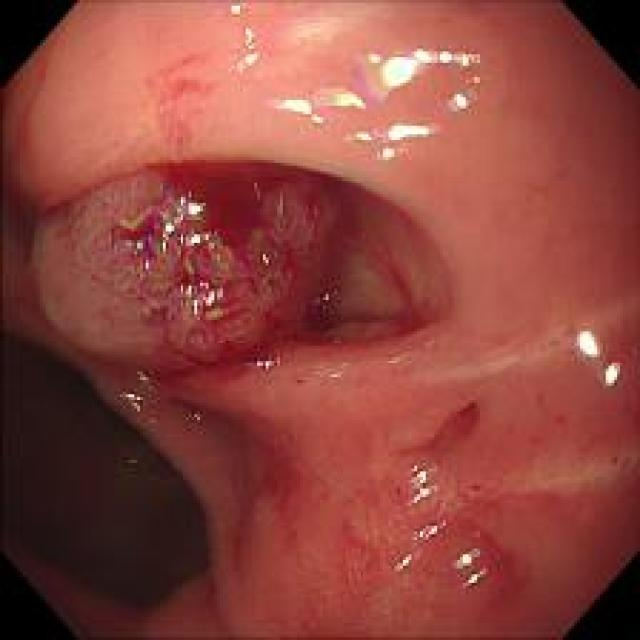blood: (132, 150, 332, 345)
color misalignment: (269, 46, 485, 165), (134, 194, 238, 324), (386, 461, 486, 588), (218, 6, 260, 74), (579, 329, 621, 392), (246, 246, 285, 271), (122, 390, 149, 418), (249, 356, 282, 369), (136, 369, 156, 388), (190, 410, 209, 426)
contrast: (8, 325, 219, 626)
specularity: (576, 326, 622, 390), (368, 51, 432, 89), (241, 25, 260, 65), (390, 120, 432, 138), (278, 96, 312, 114), (414, 468, 429, 500), (438, 49, 472, 62), (335, 94, 361, 109), (396, 551, 414, 572), (188, 231, 210, 246), (464, 570, 482, 585), (454, 552, 472, 565), (176, 195, 184, 221), (310, 114, 325, 126), (454, 94, 465, 110), (380, 146, 392, 160), (354, 129, 370, 139), (188, 202, 201, 214), (161, 221, 174, 231), (230, 4, 241, 14), (136, 240, 144, 251)
